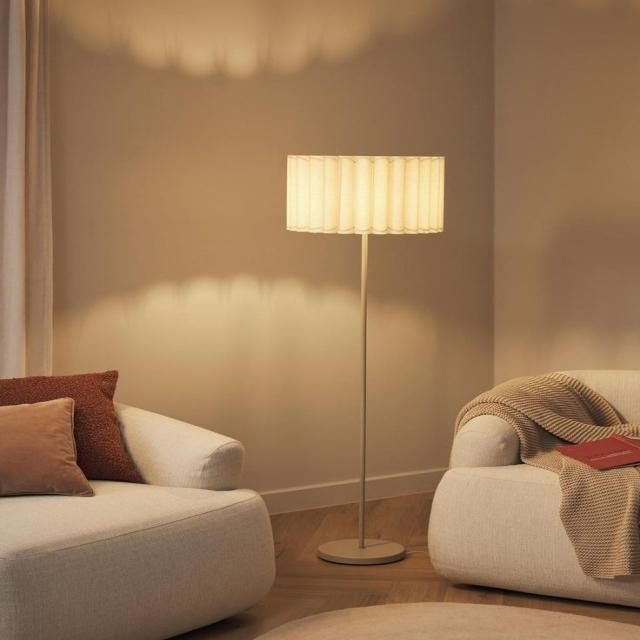obstacle: (0, 378, 277, 638), (427, 368, 639, 609)
